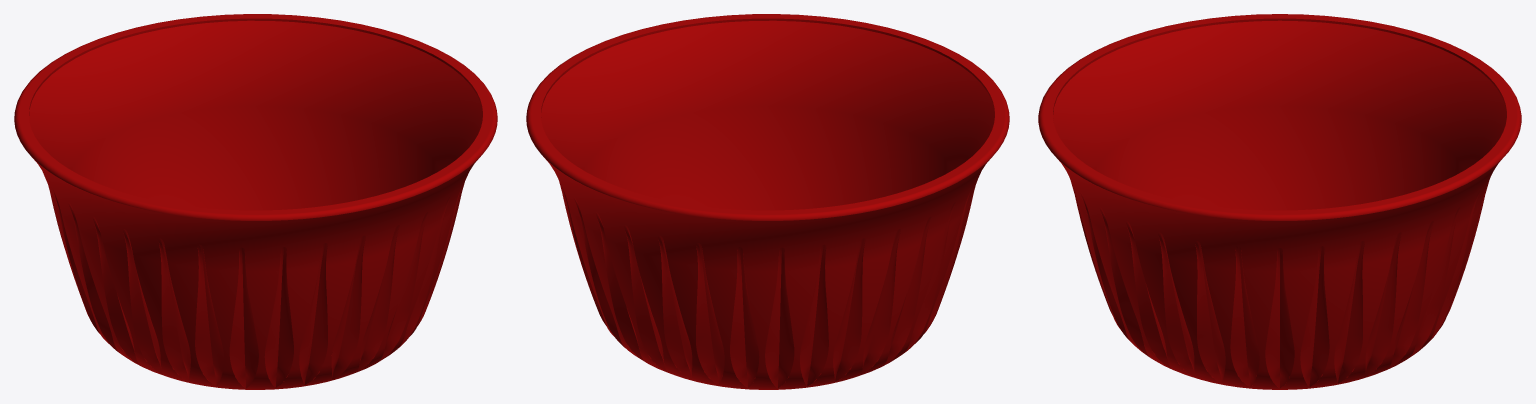
3 views of the same model, side by side, from view 1: azimuth 30°, elevation 25°; view 2: azimuth 150°, elevation 25°; view 3: azimuth 270°, elevation 25° (orthographic).
Size of the model in its own units: 0.099 by 0.05 by 0.0989.
